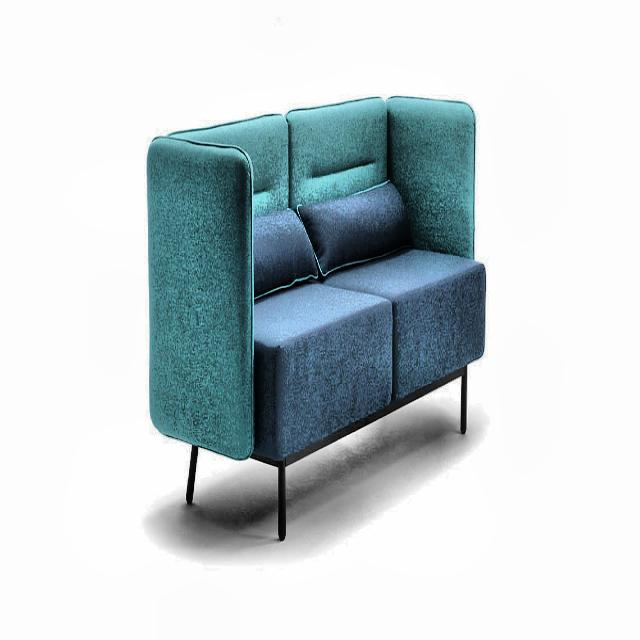sofa: (146, 93, 486, 541)
